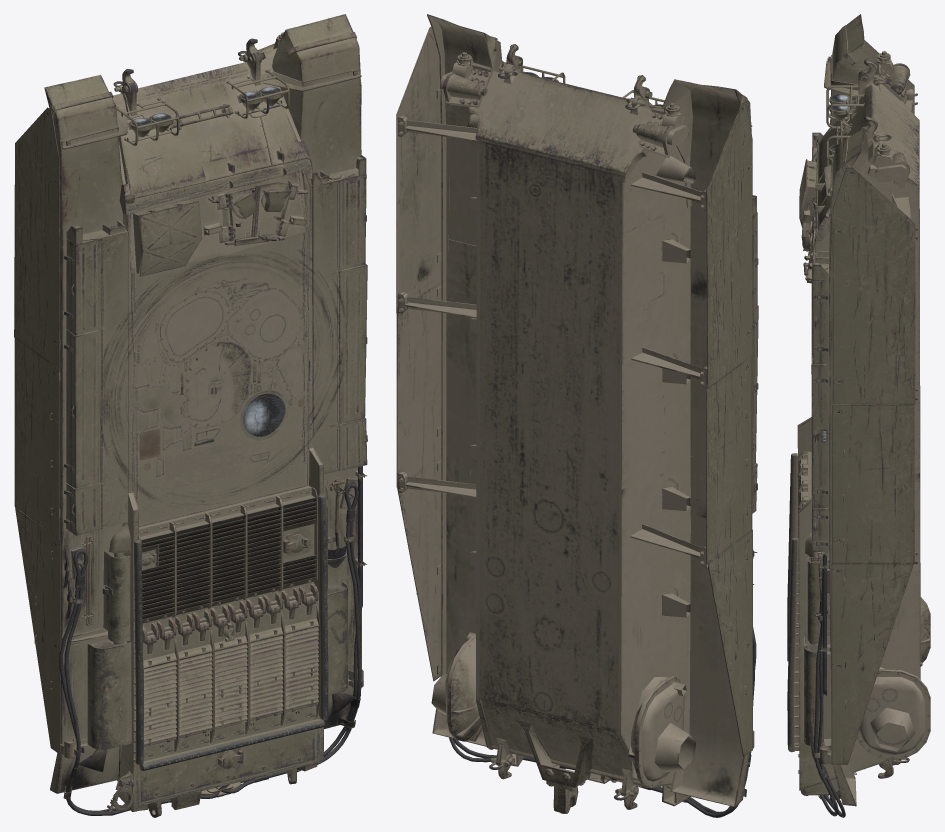
Rendered from Hull.glb.
The picture shows the model from 3 angles, left to right: view 1: azimuth 30°, elevation 25°; view 2: azimuth 150°, elevation 25°; view 3: azimuth 270°, elevation 25°; orthographic projection. The views are drawn at different scales.
Parts seen in each view (by area): view 1: set_0_group_0; view 2: set_0_group_0; view 3: set_0_group_0.
Part boxes in pixels (left/top/right/bottom): set_0_group_0: left=14, top=14, right=367, bottom=817; set_0_group_0: left=396, top=14, right=758, bottom=817; set_0_group_0: left=787, top=14, right=930, bottom=817.
Bounding box in the file's own units: 3.4 × 7.74 × 1.48.
1 material, 1 textured.
